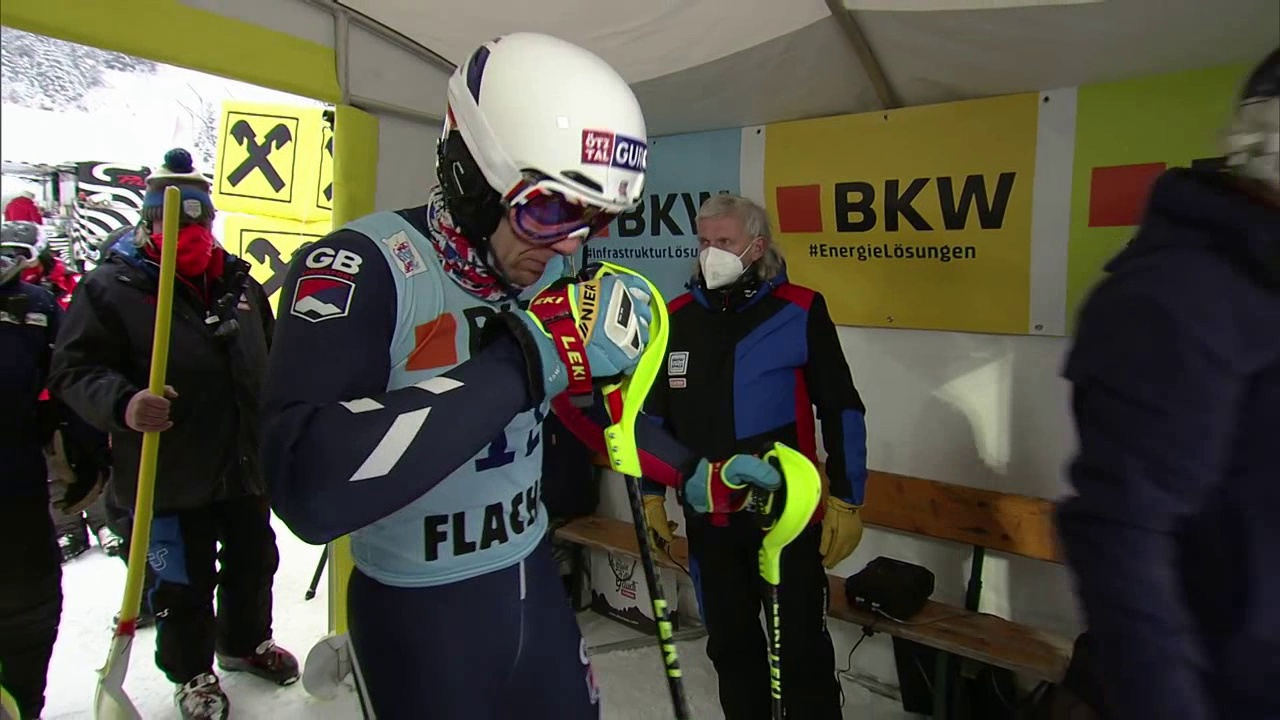a1: (402, 308, 502, 368)
raiffeisen: (215, 109, 310, 206)
